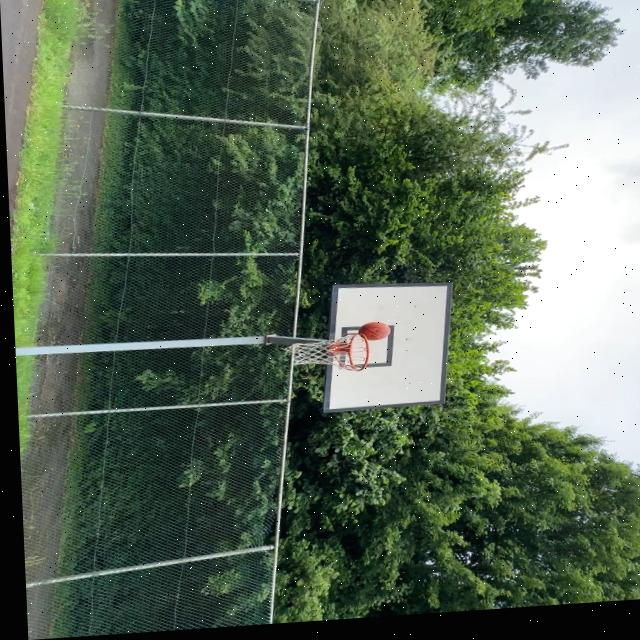rebound_hit: (359, 321, 392, 341)
